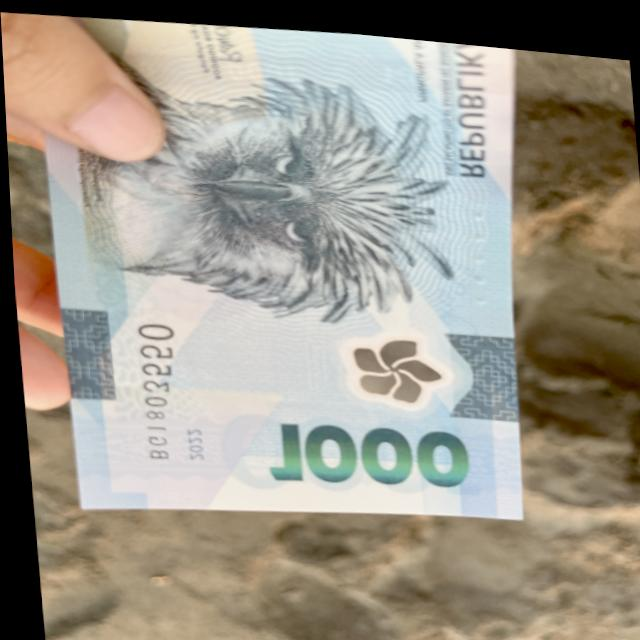eagle: (64, 40, 455, 360)
sampaguita: (323, 313, 446, 418)
